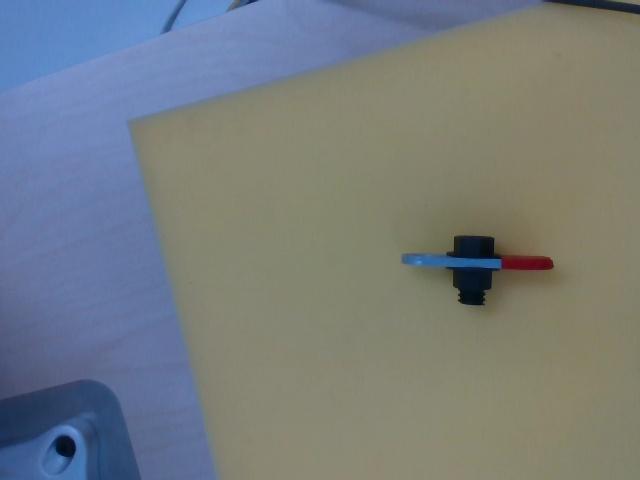part_1_good: (396, 226, 560, 312)
